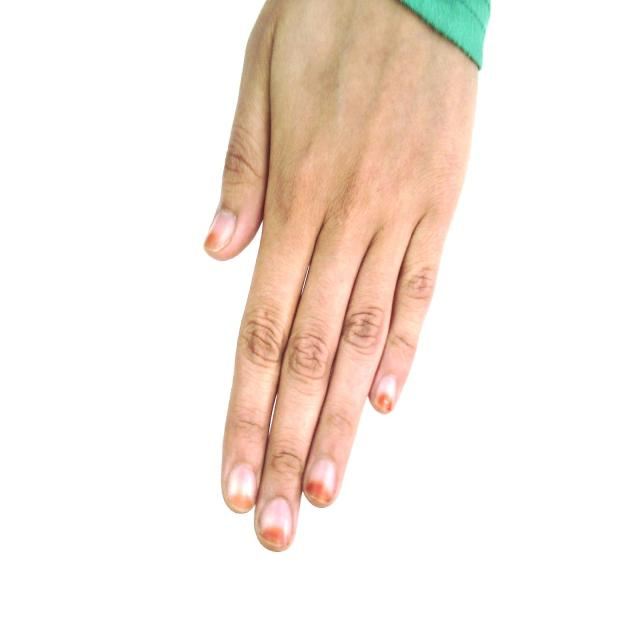Nail: (259, 497, 294, 548), (226, 464, 258, 511), (305, 457, 336, 505), (203, 208, 235, 251), (376, 375, 397, 412)
